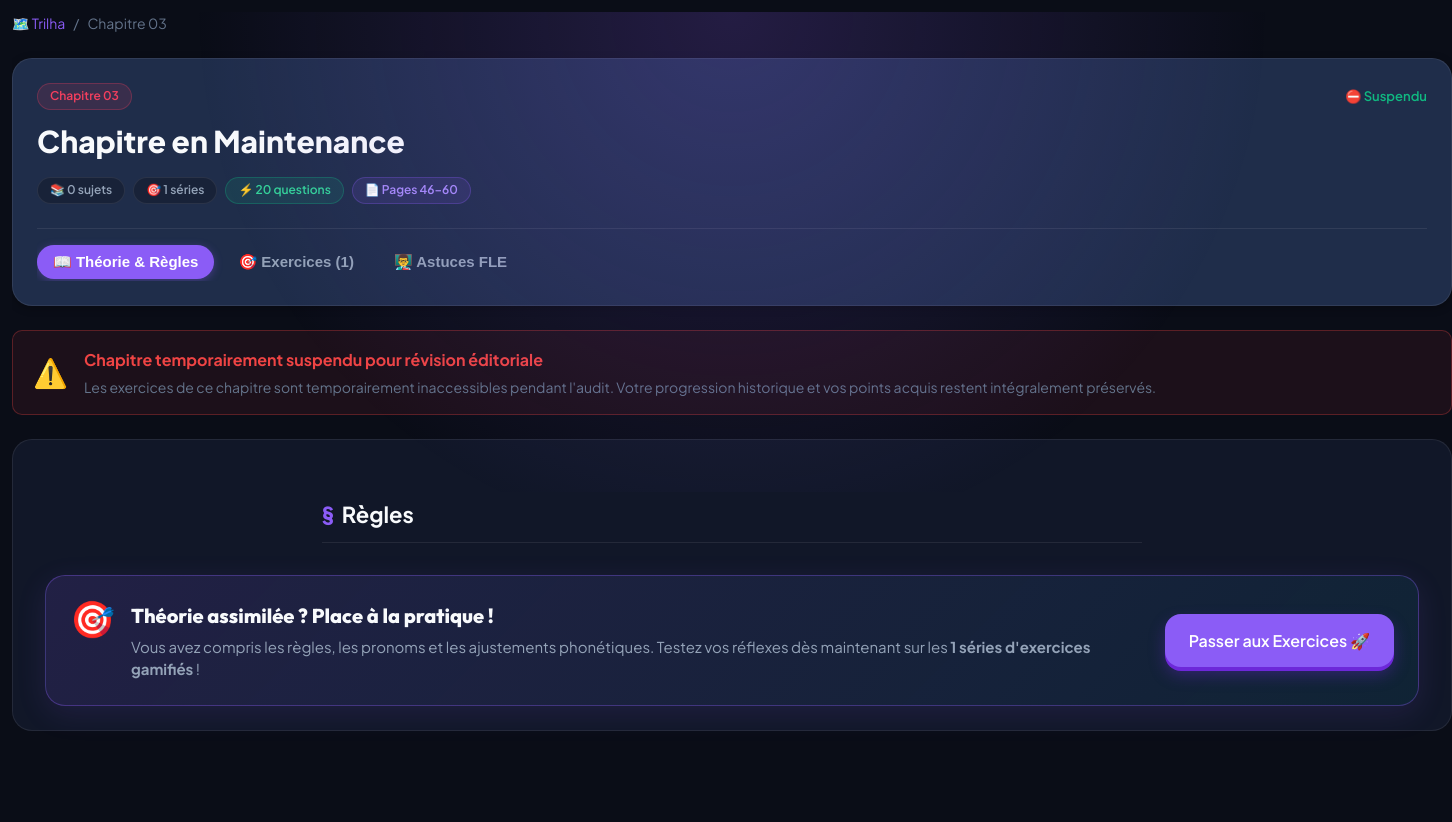
Test case: ChapterPage Component › affiche une bannière d avertissement et désactive les exercices lorsque le chapitre est suspendu (soft-hide)
The image size is (1452, 822).
Expected: the message is shown, [12, 330, 1451, 415]
Expected: the text "Chapitre temporairement suspendu pour révision éditoriale" is shown, [84, 349, 543, 370]
Click the tab "🎯 Exercices (1)" at (296, 262), box [222, 245, 370, 279]
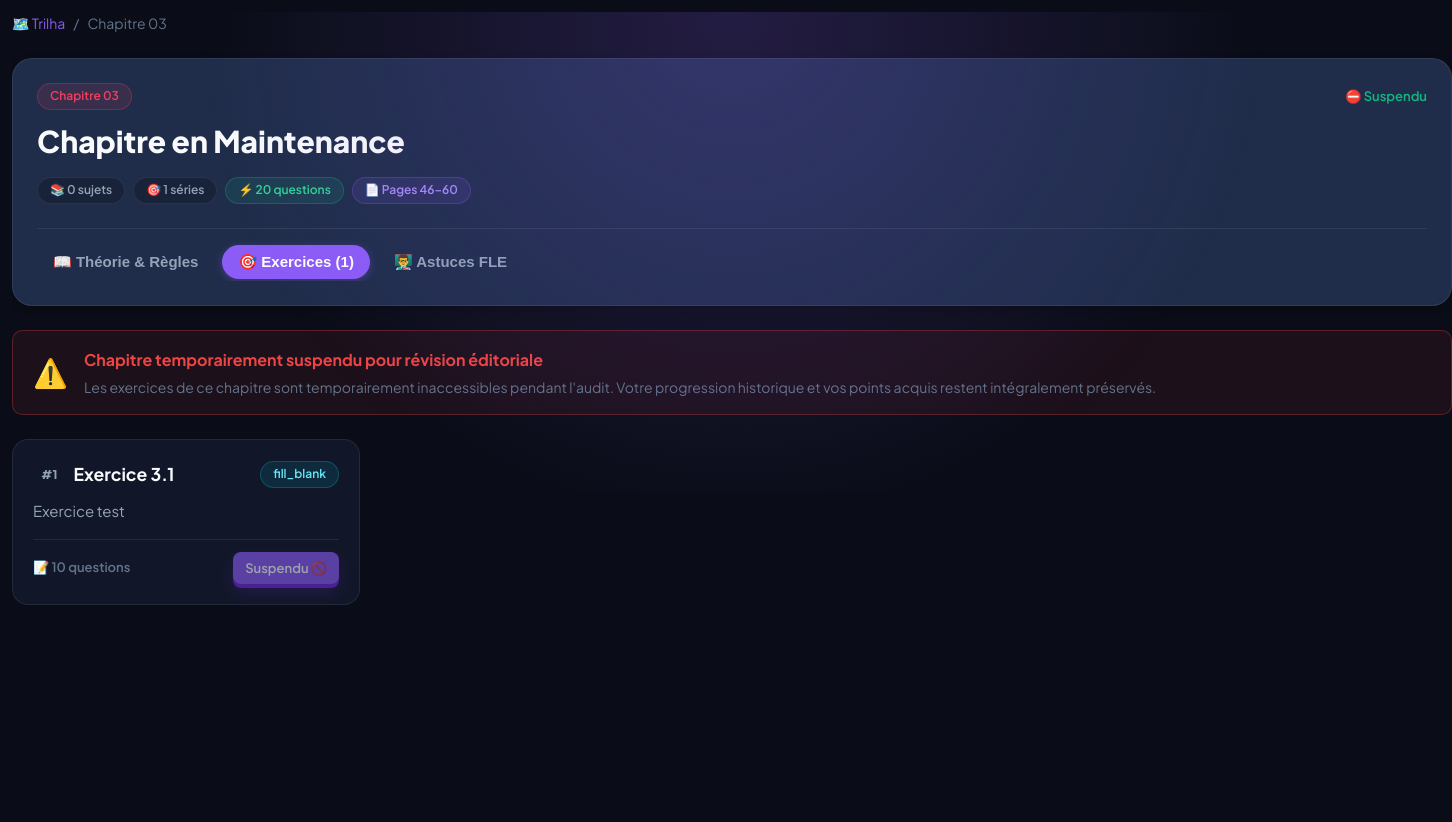
Expected: the button "Suspendu 🚫" is disabled, [233, 552, 339, 584]
